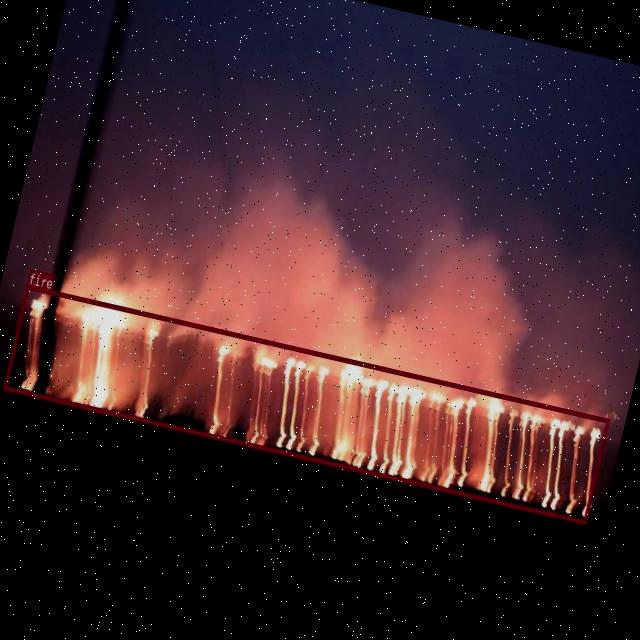fire: (2, 283, 609, 523)
